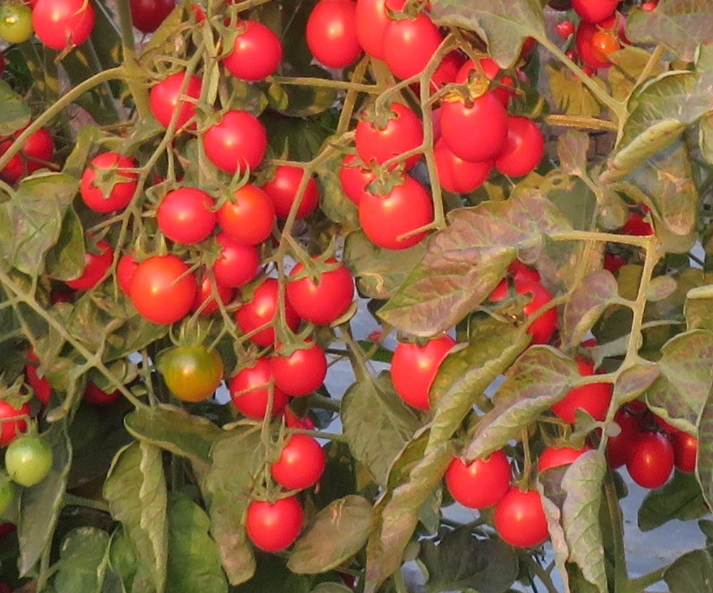green: (156, 340, 229, 398), (3, 434, 63, 490), (1, 6, 32, 45)
orange: (134, 251, 205, 326), (222, 182, 281, 243)
red: (385, 334, 460, 414), (354, 178, 432, 250), (354, 100, 429, 172), (440, 89, 505, 165), (443, 448, 513, 511), (293, 254, 355, 325), (203, 104, 265, 174), (218, 21, 286, 83), (239, 277, 298, 344), (270, 337, 335, 397), (385, 17, 443, 83), (152, 184, 217, 242), (243, 495, 307, 553), (78, 149, 139, 208), (304, 1, 354, 69), (146, 73, 205, 130), (35, 1, 99, 53), (273, 434, 329, 491), (496, 494, 548, 551), (267, 165, 322, 217), (629, 434, 676, 492), (506, 111, 541, 179), (356, 1, 382, 49)
